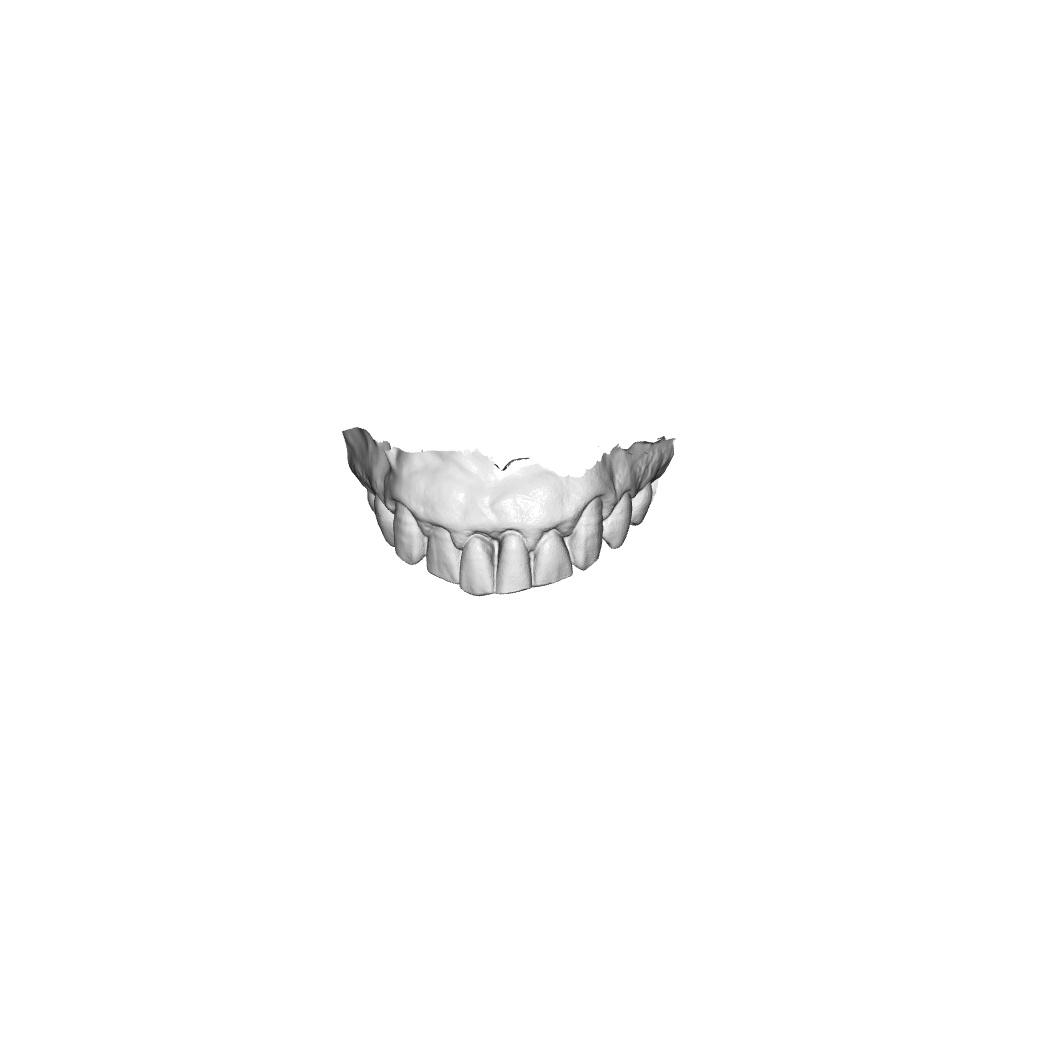canine: (562, 495, 603, 572), (393, 500, 428, 566)
incisor: (531, 526, 574, 589), (458, 531, 498, 597), (494, 529, 533, 596), (426, 524, 463, 585)
premolar: (601, 490, 633, 550), (374, 492, 395, 549), (627, 481, 653, 527)
